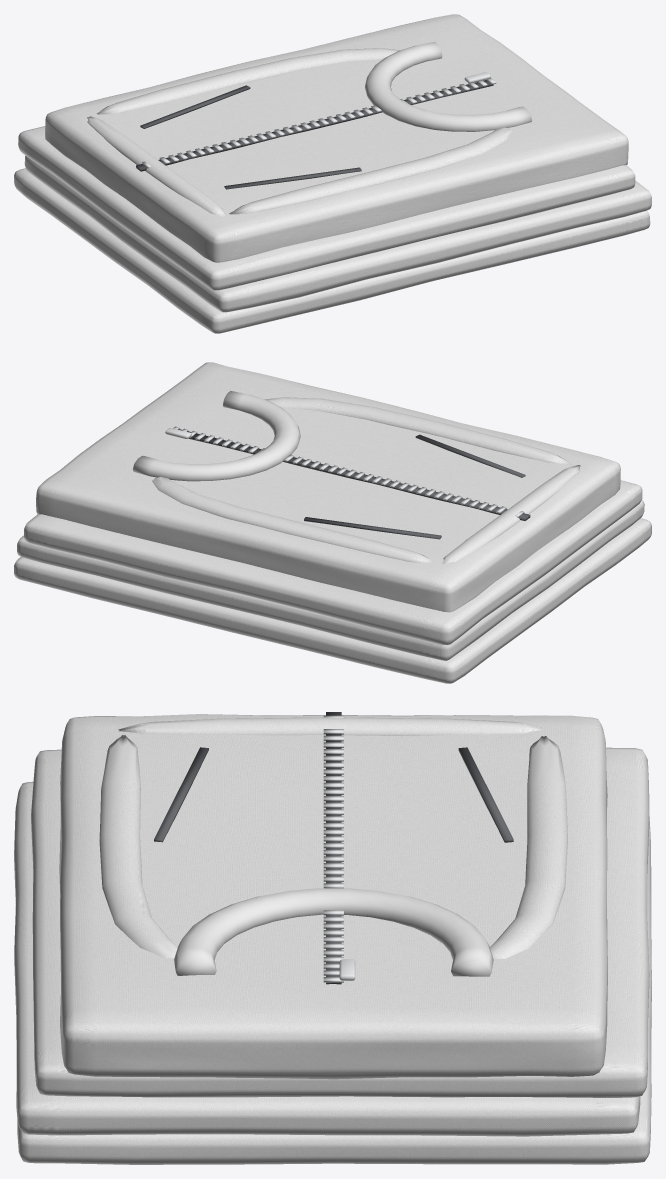
File: jacket.glb
The picture shows the model from 3 angles, top to bottom: view 1: azimuth 30°, elevation 25°; view 2: azimuth 150°, elevation 25°; view 3: azimuth 270°, elevation 25°; orthographic projection. The views are drawn at different scales.
Visible parts, largest first — view 1: jacket_layer, jacket_fold2, jacket_fold1, jacket_fold0, jacket_collar, jacket_sleeve-1, jacket_sleeve1, jacket_hem, jacket_zip, jacket_pocket-1, jacket_pocket1; view 2: jacket_layer, jacket_fold2, jacket_fold0, jacket_fold1, jacket_collar, jacket_sleeve1, jacket_sleeve-1, jacket_hem, jacket_zip, jacket_pocket1, jacket_pocket-1; view 3: jacket_layer, jacket_fold2, jacket_fold1, jacket_fold0, jacket_collar, jacket_sleeve1, jacket_sleeve-1, jacket_hem, jacket_zip, jacket_pocket1, jacket_pocket-1.
Part boxes in pixels (x1,y1,x2,y2): jacket_layer: [45, 14, 628, 262]; jacket_fold2: [18, 126, 635, 290]; jacket_fold1: [24, 155, 651, 312]; jacket_fold0: [14, 168, 650, 333]; jacket_collar: [365, 41, 532, 131]; jacket_sleeve-1: [229, 127, 512, 214]; jacket_sleeve1: [96, 48, 399, 114]; jacket_hem: [87, 116, 225, 217]; jacket_zip: [136, 80, 493, 171]; jacket_pocket-1: [224, 167, 361, 189]; jacket_pocket1: [140, 85, 250, 128]; jacket_layer: [36, 362, 620, 612]; jacket_fold2: [24, 480, 642, 644]; jacket_fold0: [14, 518, 651, 683]; jacket_fold1: [17, 500, 644, 660]; jacket_collar: [133, 391, 300, 481]; jacket_sleeve1: [152, 477, 434, 562]; jacket_sleeve-1: [265, 397, 571, 464]; jacket_hem: [442, 465, 580, 564]; jacket_zip: [178, 429, 530, 520]; jacket_pocket1: [304, 517, 441, 539]; jacket_pocket-1: [415, 434, 525, 477]; jacket_layer: [59, 714, 607, 1079]; jacket_fold2: [31, 747, 649, 1097]; jacket_fold1: [14, 781, 640, 1136]; jacket_fold0: [17, 816, 651, 1164]; jacket_collar: [174, 888, 493, 976]; jacket_sleeve1: [490, 736, 567, 959]; jacket_sleeve-1: [99, 734, 177, 958]; jacket_hem: [118, 717, 541, 735]; jacket_zip: [326, 712, 341, 984]; jacket_pocket1: [458, 747, 513, 842]; jacket_pocket-1: [154, 747, 208, 842].
Bounding box in the file's own units: 35.18 × 7.68 × 28.15.
3 materials, 1 textured.
